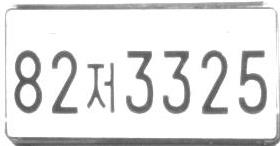2: (51, 49, 78, 114), (201, 49, 228, 114)
3: (125, 50, 154, 114), (163, 51, 190, 114)
5: (238, 49, 266, 114)
8: (13, 49, 43, 113)
저: (87, 62, 114, 112)
